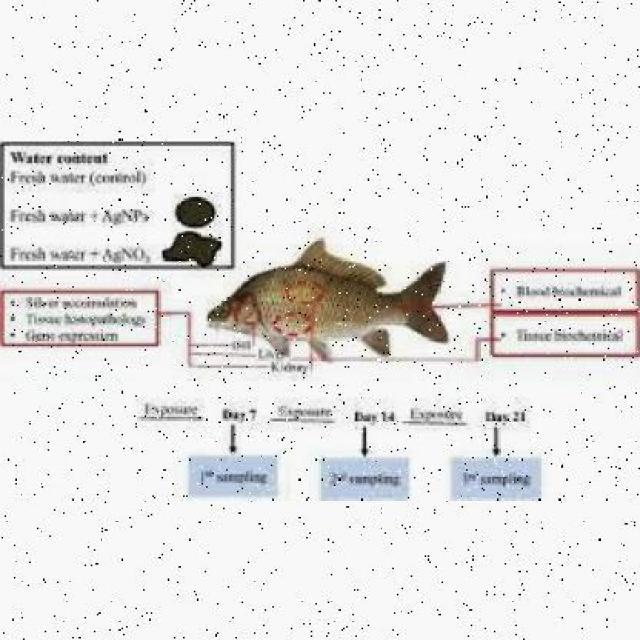ikan-mas: (206, 241, 447, 365)
